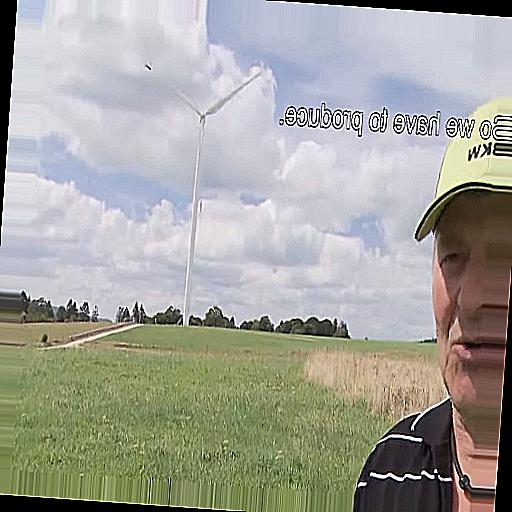wind turbine: (142, 61, 264, 334)
